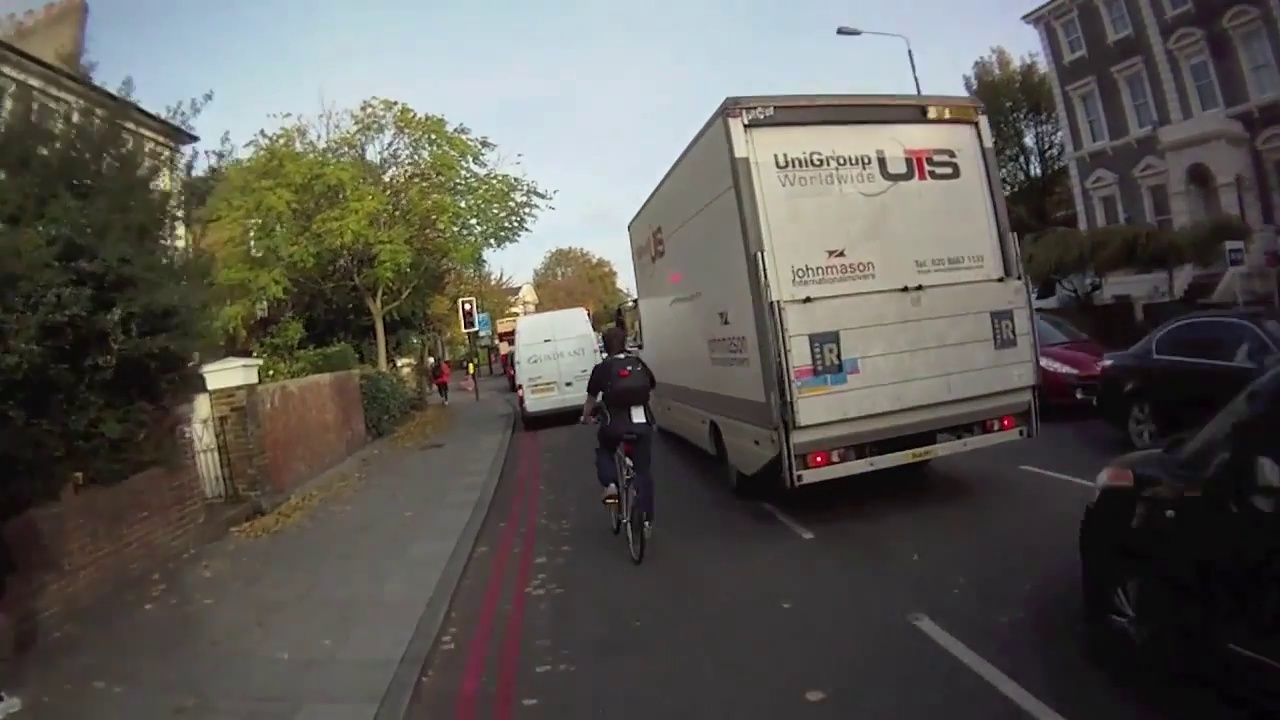cyclist_back: (576, 317, 680, 567)
